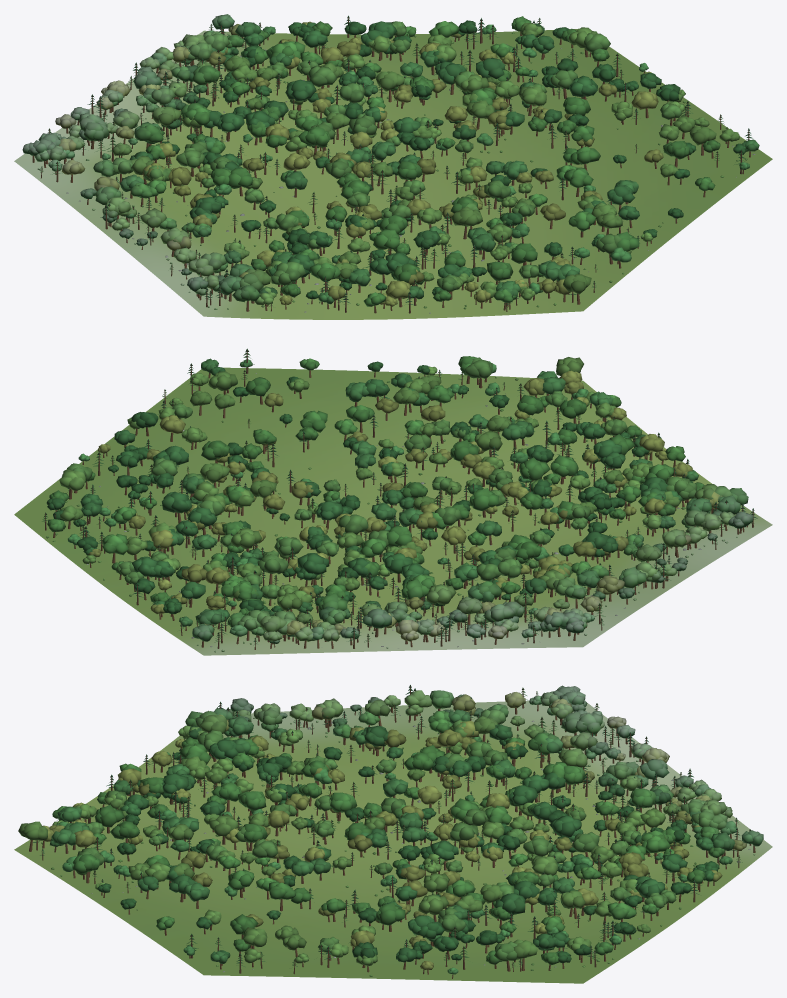
3 renders of one model, top to bottom at view 1: azimuth 30°, elevation 25°; view 2: azimuth 150°, elevation 25°; view 3: azimuth 270°, elevation 25°, orthographic.
Visible parts, largest first — view 1: broadleaf_canopy, terrain, trunks, conifer_canopy; view 2: broadleaf_canopy, terrain, trunks, conifer_canopy; view 3: broadleaf_canopy, terrain, trunks, conifer_canopy, shrubs.
Part boxes in pixels (box(x1,y1,x2,y2)): broadleaf_canopy: box(22, 14, 759, 306); terrain: box(14, 28, 772, 319); trunks: box(32, 16, 750, 313); conifer_canopy: box(39, 15, 752, 306); broadleaf_canopy: box(46, 356, 753, 643); terrain: box(14, 367, 772, 655); trunks: box(45, 350, 753, 649); conifer_canopy: box(42, 348, 757, 644); broadleaf_canopy: box(18, 685, 763, 974); terrain: box(14, 701, 772, 983); trunks: box(29, 685, 755, 978); conifer_canopy: box(33, 685, 750, 967); shrubs: box(41, 709, 755, 976).
Size of the model in its own units: 4330 by 336 by 5000.
